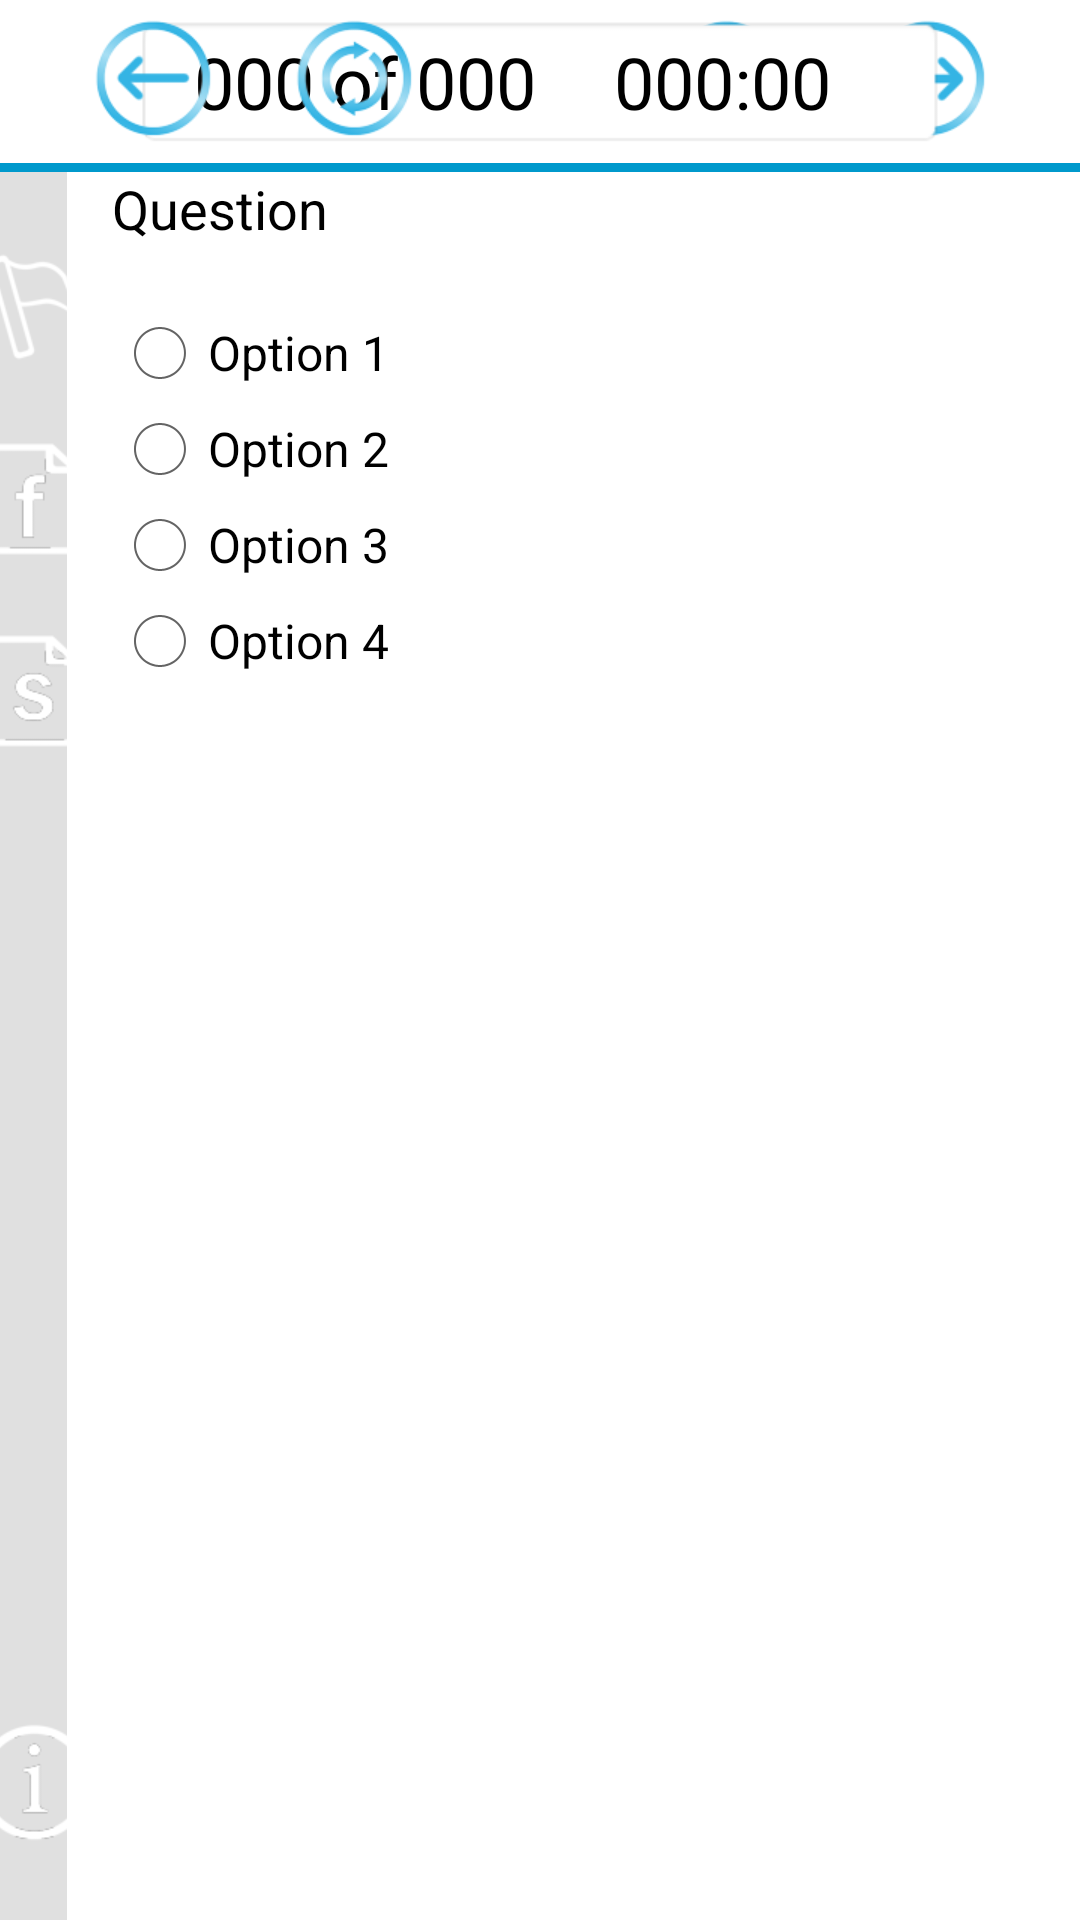

Icons on this 1080px×1920px Android screen, each with its box as rect(x1, y1, x2, y2):
Detail: rect(0, 1726, 67, 1839)
flag: rect(0, 256, 67, 358)
Previous: rect(96, 21, 216, 136)
Reset: rect(291, 21, 412, 136)
